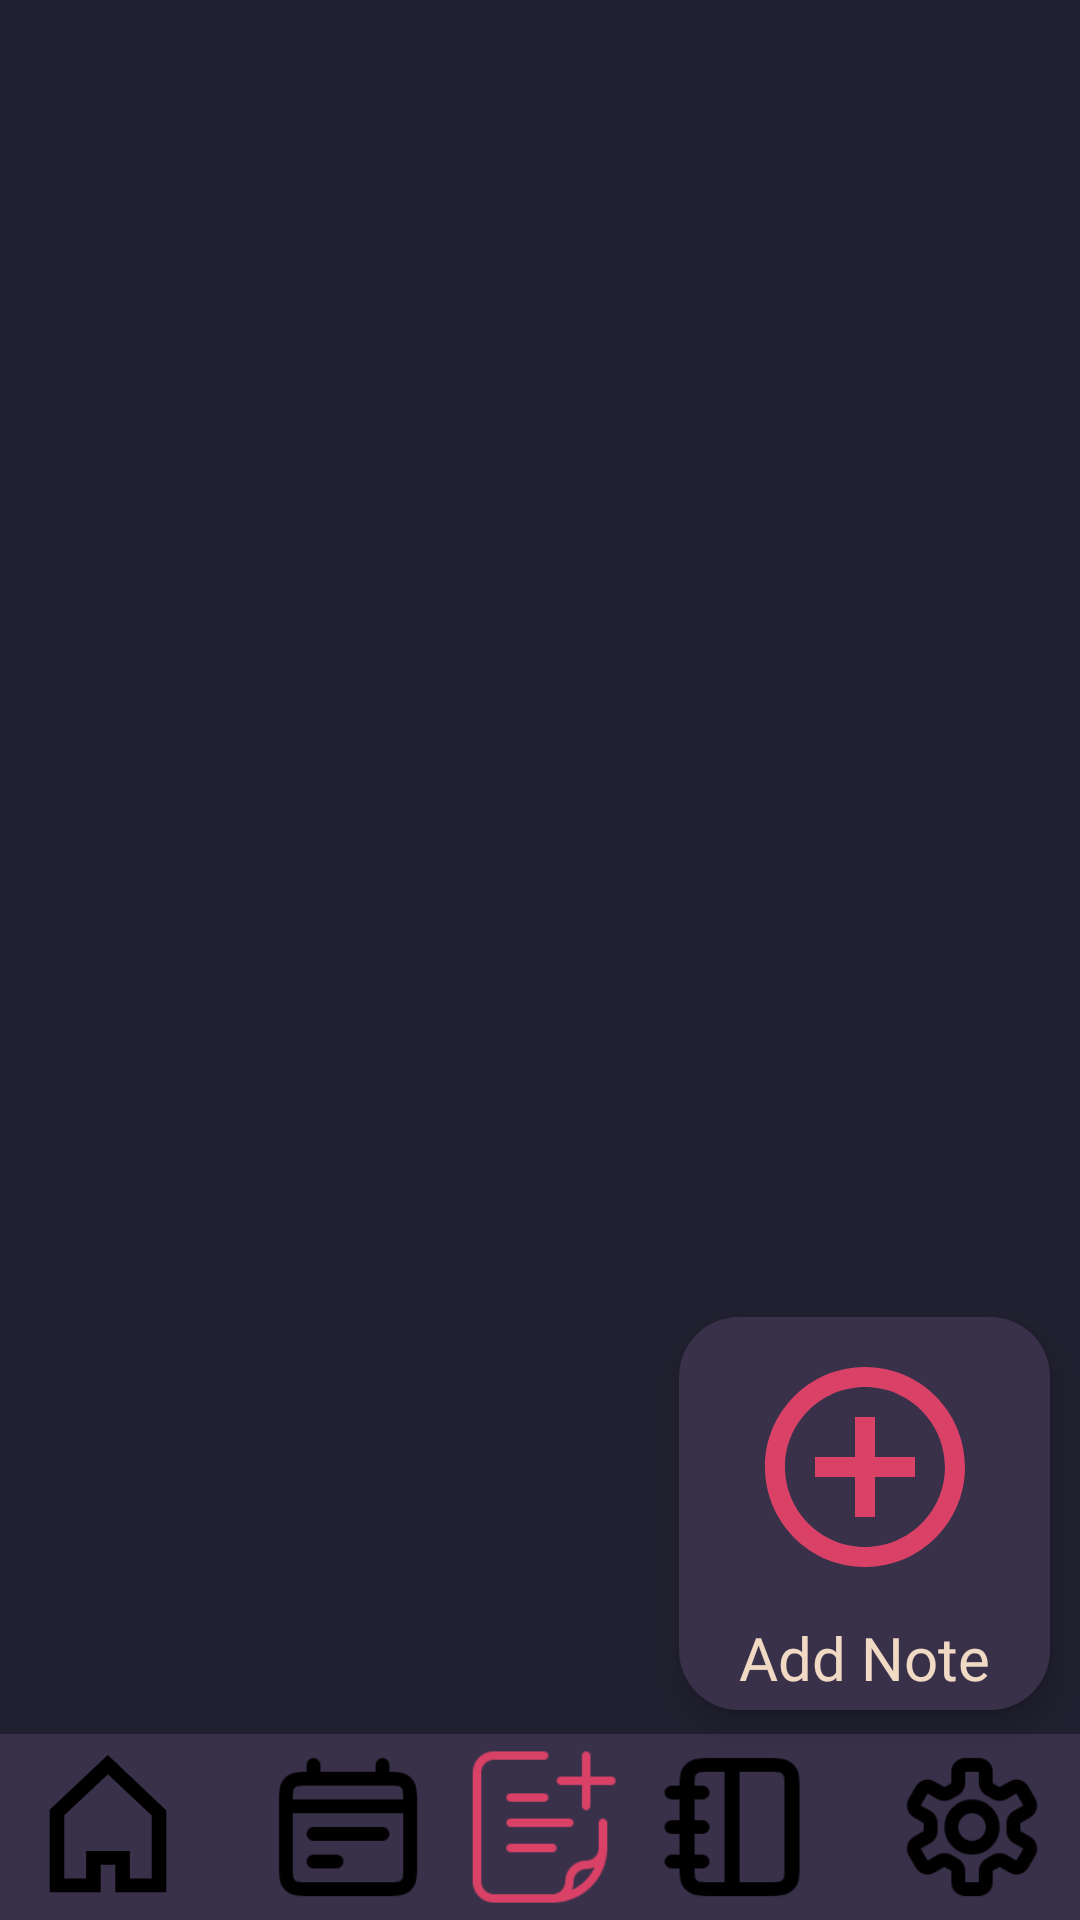

Icon bounding boxes for this 1080x1920 phone screenshot, format region(x1, y1, x2, y2):
home: region(50, 1755, 166, 1892)
